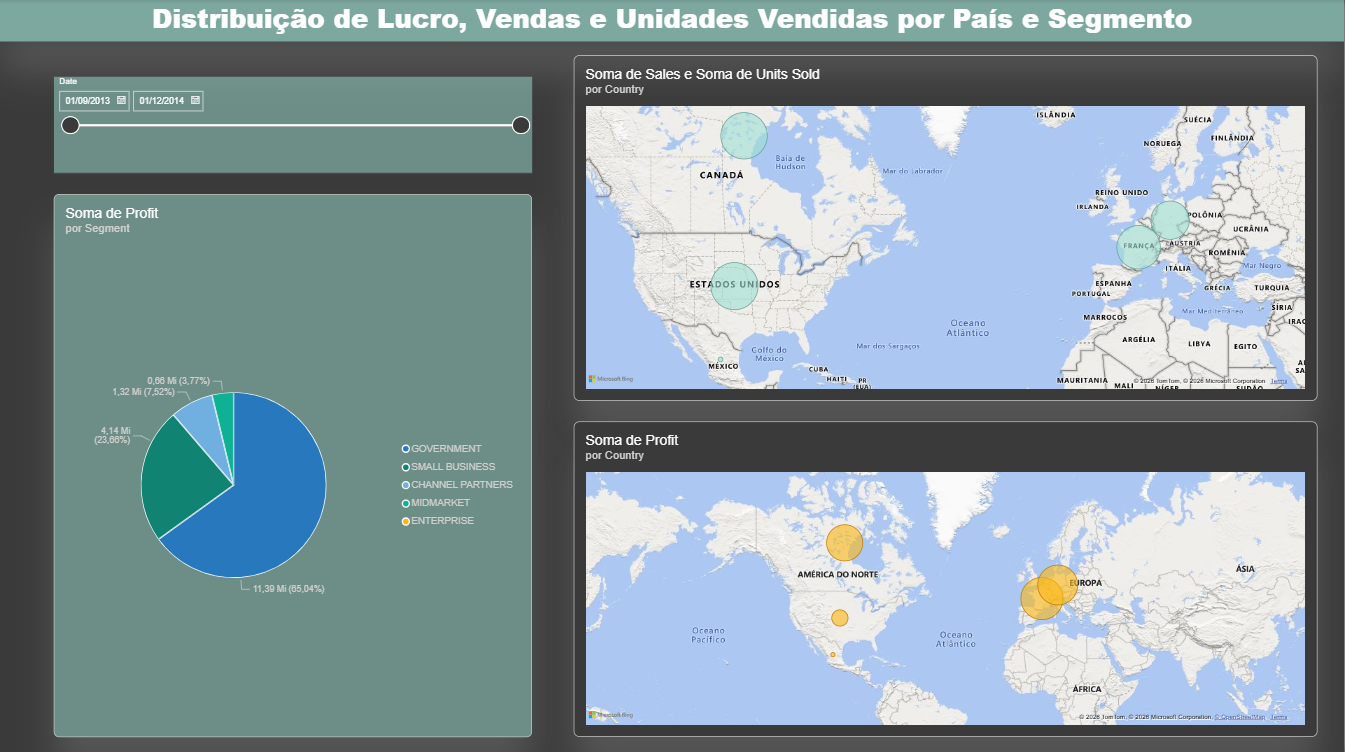

The dashboard page shown, as its layout file describes it:
{"tool":"powerbi","page":{"name":"Página 3","canvas":[1920,1080],"ordinal":2},"visuals":[{"type":"pieChart","fields":{"Category":["financials.Segment"],"Y":["Sum(financials.Profit)"]},"box":[76.2,277.9,683.4,776],"z":0},{"type":"map","fields":{"Category":["financials.Country"],"Size":["Sum(financials.Sales)"]},"box":[819.2,80.3,1062.1,494],"z":1000},{"type":"map","fields":{"Category":["financials.Country"],"Size":["Sum(financials.Profit)"]},"box":[819.2,603.1,1062.1,450.8],"z":2000},{"type":"textbox","box":[0,0,1920.4,60.6],"z":3000},{"type":"slicer","fields":{"Values":["financials.Date"]},"box":[76.2,111.1,683.4,137.9],"z":4000}]}

Visuals, with their boxes in screenshot pixels (x1, y1, x2, y2), scaled from the page's 1920x1080 canvas onto the 1345x752 screenshot:
pieChart - financials.Segment x Sum(financials.Profit): (x1=53, y1=194, x2=532, y2=734)
map - financials.Country x Sum(financials.Sales): (x1=574, y1=56, x2=1318, y2=400)
map - financials.Country x Sum(financials.Profit): (x1=574, y1=420, x2=1318, y2=734)
textbox: (x1=0, y1=0, x2=1344, y2=42)
slicer - financials.Date: (x1=53, y1=77, x2=532, y2=173)
